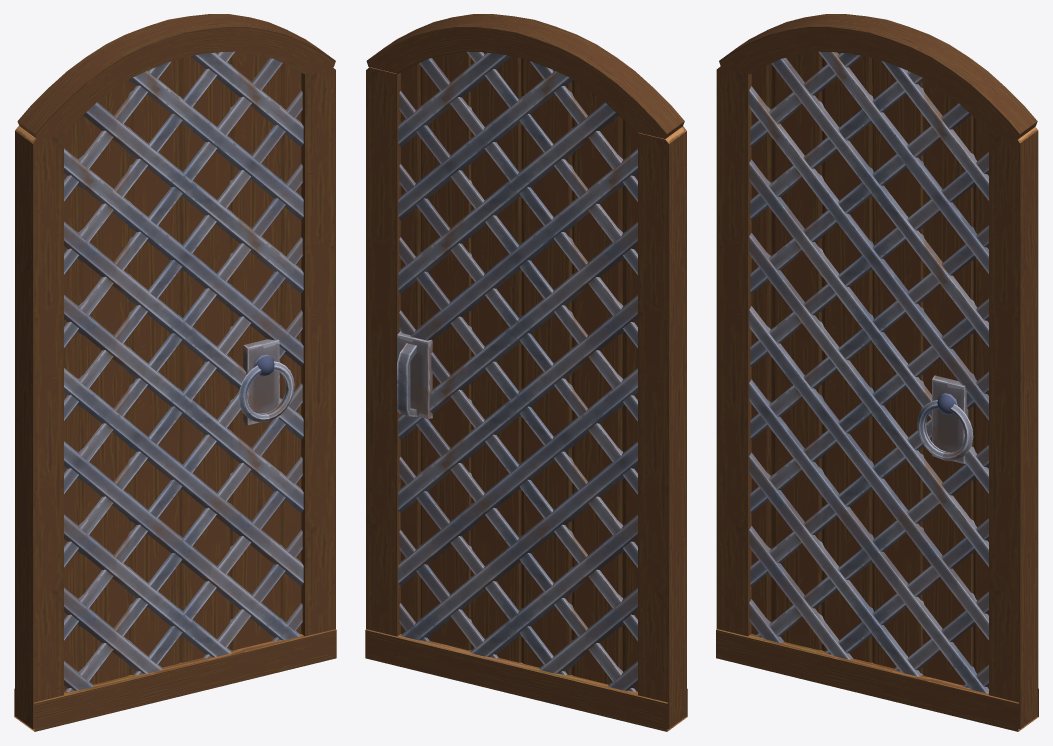
The model's file is Door_4_Round.gltf.
3 views of the same model, side by side, from view 1: azimuth 30°, elevation 25°; view 2: azimuth 150°, elevation 25°; view 3: azimuth 330°, elevation 25° (orthographic).
Parts seen in each view (by area): view 1: Door_4_Round; view 2: Door_4_Round; view 3: Door_4_Round.
Part boxes in pixels (<box>): Door_4_Round: <box>14,14,336,731</box>; Door_4_Round: <box>365,14,687,731</box>; Door_4_Round: <box>716,14,1038,731</box>.
Bounding box in the file's own units: 1.11 × 2.32 × 0.2093.
2 materials, 2 textured.
